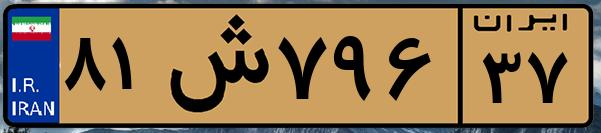1: (110, 28, 158, 98)
3: (475, 38, 525, 113)
6: (385, 28, 445, 110)
7: (270, 28, 330, 110), (525, 38, 570, 115)
8: (57, 26, 110, 100)
9: (330, 28, 385, 110)
ش: (158, 12, 270, 120)
